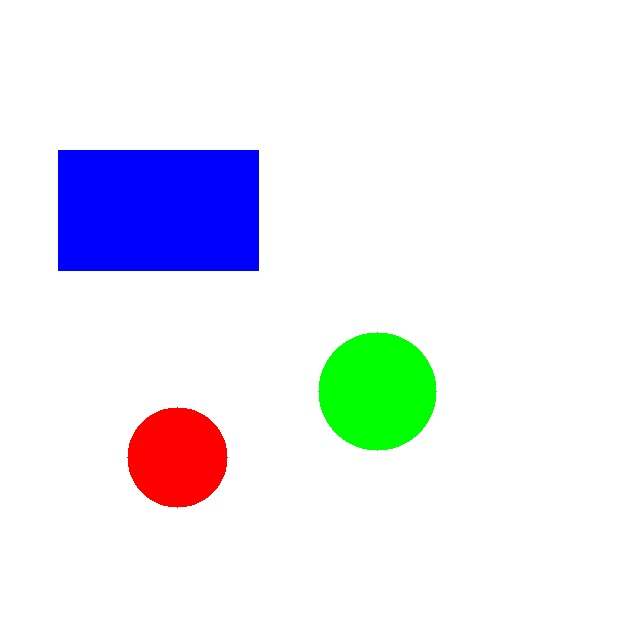cartao: (58, 150, 258, 270)
rosca_externa: (318, 332, 436, 450)
rosca_interna: (127, 407, 227, 507)
